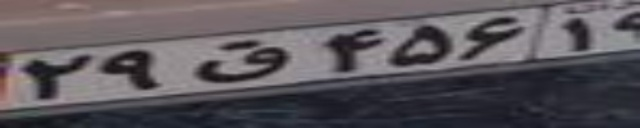1: (562, 14, 594, 51)
2: (22, 52, 88, 100)
4: (325, 27, 380, 72)
5: (389, 24, 449, 67)
6: (462, 18, 519, 62)
9: (100, 50, 156, 89), (610, 10, 639, 49)
ghaf: (192, 39, 292, 83)
